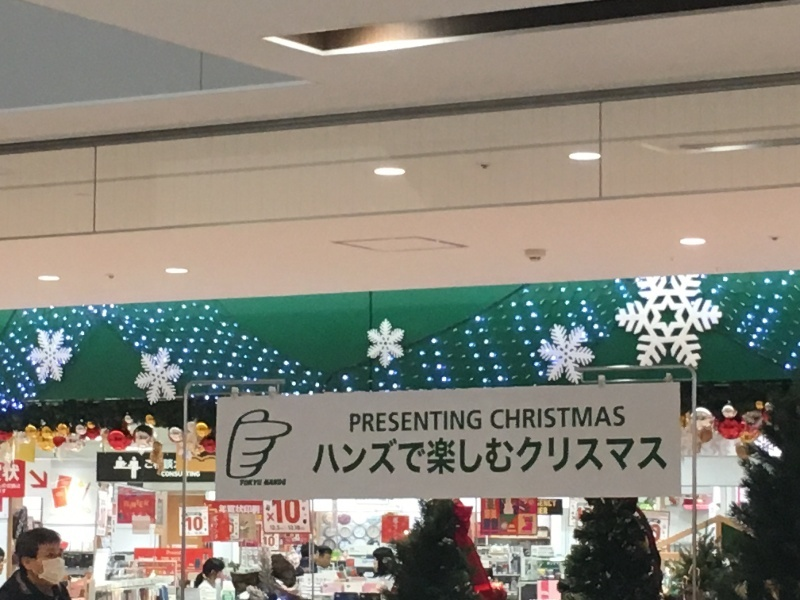text: (321, 437, 336, 475), (337, 437, 352, 475), (353, 437, 368, 475), (369, 437, 384, 475), (385, 437, 400, 475), (401, 437, 416, 475), (417, 437, 432, 475), (433, 437, 448, 475), (449, 437, 464, 475), (465, 437, 480, 475), (481, 437, 496, 475), (497, 437, 512, 475), (513, 437, 528, 475), (529, 437, 544, 475), (545, 437, 560, 475), (561, 437, 576, 475), (577, 437, 592, 475), (593, 437, 608, 475), (609, 437, 624, 475), (625, 437, 640, 475), (641, 437, 656, 475), (609, 405, 625, 430), (657, 437, 667, 475), (497, 405, 512, 430), (513, 405, 528, 430), (529, 405, 544, 430), (545, 405, 560, 430), (561, 405, 576, 430), (577, 405, 592, 430), (593, 405, 608, 430), (273, 500, 288, 524), (353, 410, 368, 433), (369, 410, 384, 433), (385, 410, 400, 433), (401, 410, 416, 433), (417, 410, 432, 433), (433, 410, 448, 433), (449, 410, 464, 433), (465, 410, 480, 433), (289, 500, 301, 524), (3, 463, 16, 482), (577, 508, 592, 522), (145, 459, 160, 470), (393, 518, 400, 541), (193, 517, 203, 532), (225, 505, 240, 514), (241, 505, 256, 514), (129, 500, 144, 509), (164, 459, 176, 469), (317, 437, 320, 475), (650, 524, 656, 542), (185, 517, 192, 532), (492, 405, 496, 430), (273, 479, 286, 486), (241, 480, 256, 486), (263, 537, 272, 547), (161, 472, 176, 478), (545, 500, 557, 507), (289, 526, 305, 531), (1, 484, 16, 489), (657, 524, 661, 542), (17, 463, 20, 482), (264, 479, 272, 486), (273, 525, 283, 530), (537, 508, 544, 515), (350, 410, 352, 433), (219, 505, 224, 514), (123, 500, 128, 509), (538, 500, 544, 507), (193, 472, 201, 477), (145, 500, 149, 509), (177, 472, 183, 478), (257, 480, 262, 486), (257, 505, 260, 514), (187, 472, 192, 477), (481, 410, 482, 433), (545, 508, 548, 515), (273, 537, 275, 547), (17, 484, 21, 489), (270, 525, 272, 530)
